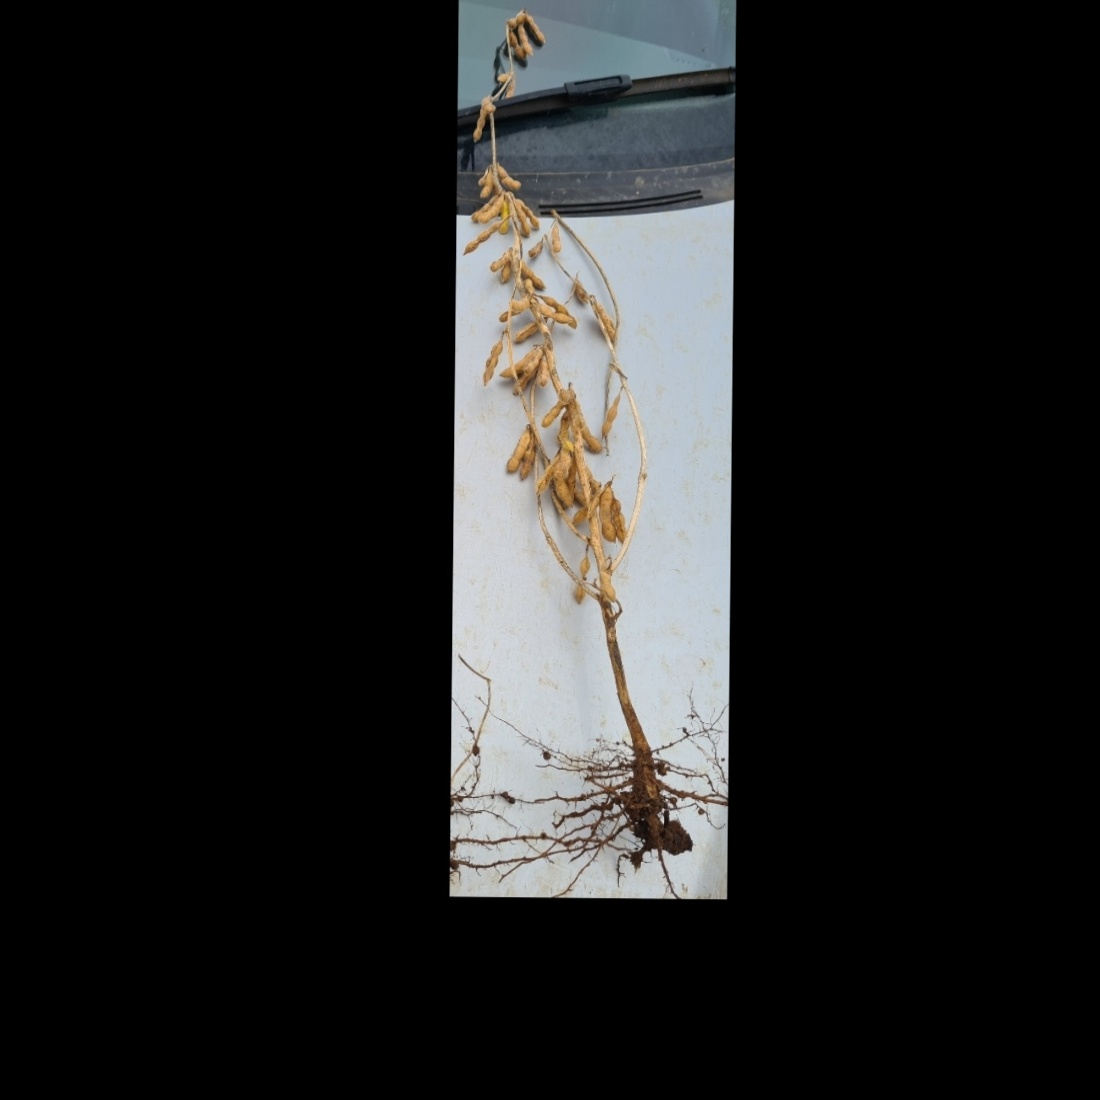pod: (596, 386, 629, 441), (478, 335, 507, 393), (460, 219, 502, 257), (501, 429, 532, 478), (597, 480, 622, 544), (605, 494, 631, 545), (538, 393, 570, 431), (521, 10, 548, 47), (473, 193, 506, 225), (536, 302, 579, 324), (470, 105, 491, 145), (505, 32, 528, 66), (517, 22, 534, 59)
soy: (459, 0, 717, 860)
